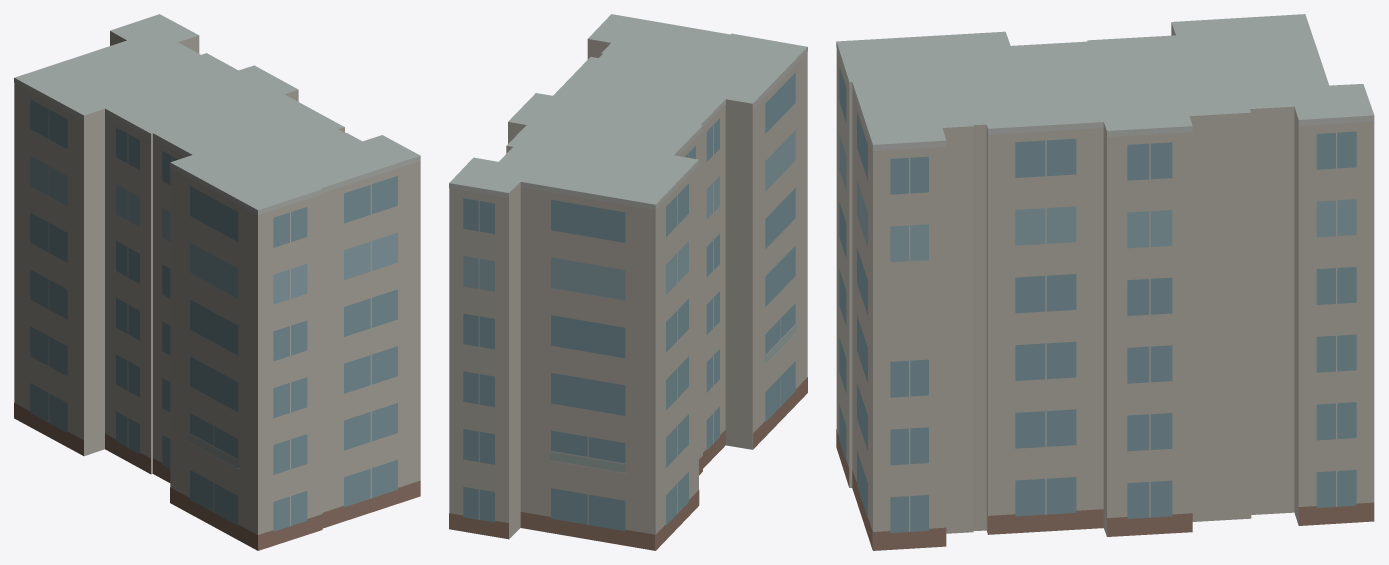
Rendered from survey-upis-32741437.glb.
3 views of the same model, side by side, from view 1: azimuth 30°, elevation 25°; view 2: azimuth 150°, elevation 25°; view 3: azimuth 270°, elevation 25° (orthographic). The views are drawn at different scales.
Visible parts, largest first — view 1: survey-upis-32741437.tmp; view 2: survey-upis-32741437.tmp; view 3: survey-upis-32741437.tmp.
Boxes of the visible parts, x1,y1,x2,y2 form: survey-upis-32741437.tmp: (14, 14, 420, 550); survey-upis-32741437.tmp: (449, 14, 807, 550); survey-upis-32741437.tmp: (836, 14, 1374, 550).
Size of the model in its own units: 11.35 by 16.4 by 19.71.
